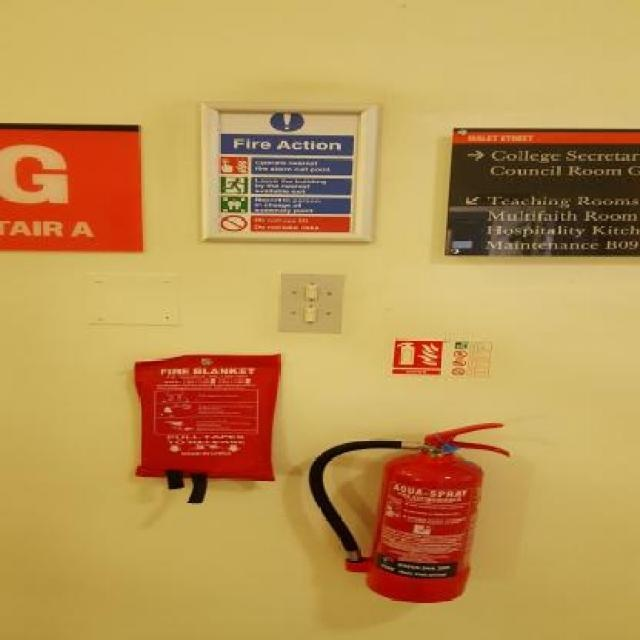fire extinguisher: (310, 420, 516, 611)
